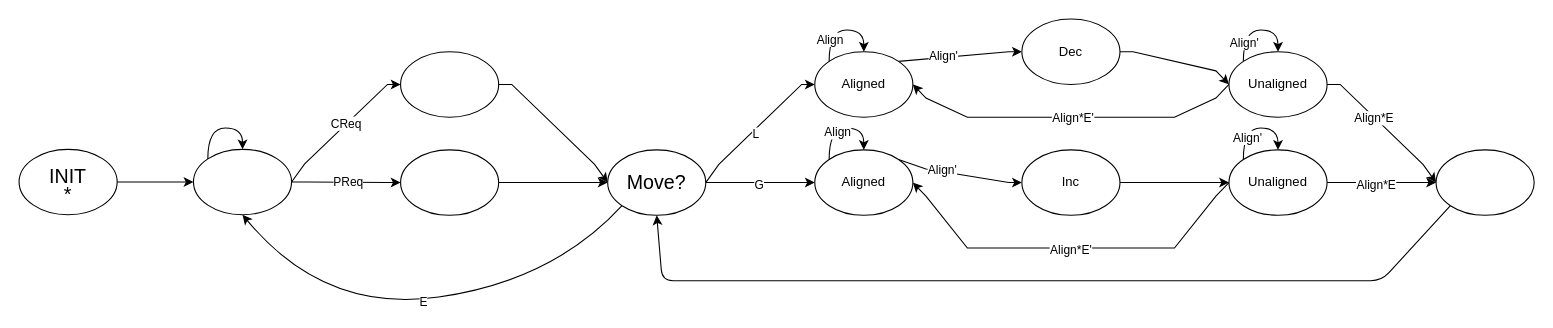
The diagram is 1553 pixels wide and 328 high, and some of its shapes have lost their labels. Each missing label, with the centre of its shape:
Done: pixel 1484 182
FloorCall: pixel 449 84
PanelCall: pixel 449 182
Wait: pixel 242 181
